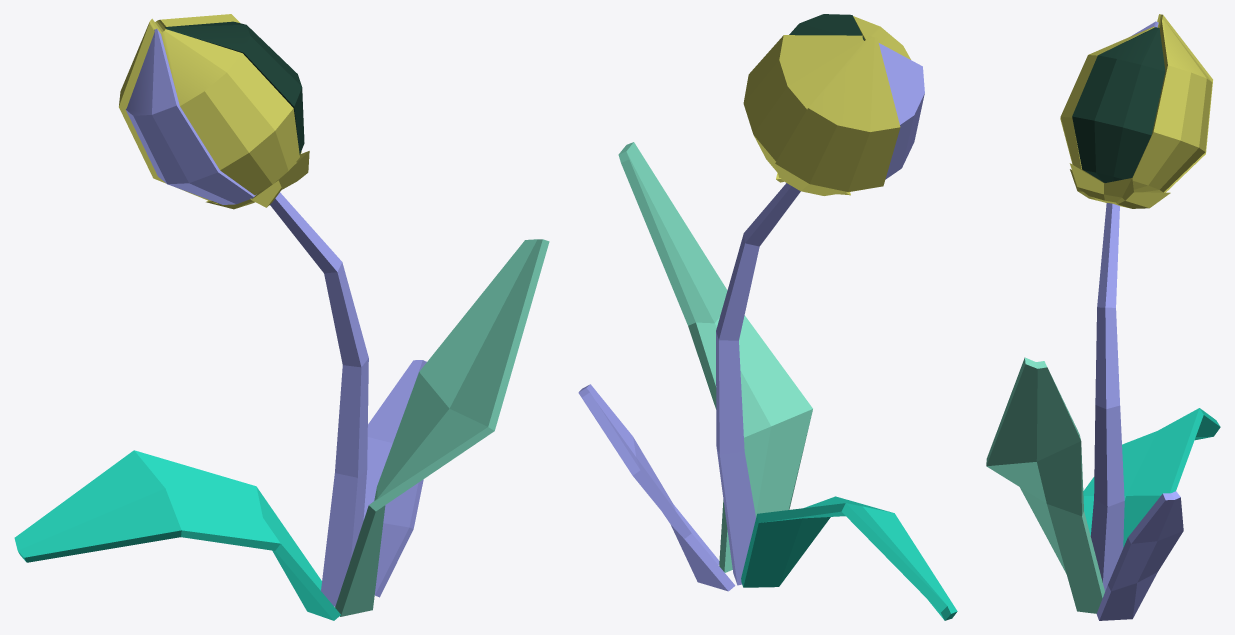
File: st1_flower7.fbx
3 renders of one model, left to right at view 1: azimuth 30°, elevation 25°; view 2: azimuth 150°, elevation 25°; view 3: azimuth 270°, elevation 25°, orthographic. The views are drawn at different scales.
Parts seen in each view (by area): view 1: Plane_003; view 2: Plane_003; view 3: Plane_003.
Part boxes in pixels (bbox=[...]): Plane_003: bbox=[14, 14, 549, 620]; Plane_003: bbox=[578, 14, 957, 620]; Plane_003: bbox=[986, 14, 1220, 620].
Size of the model in its own units: 156 by 209 by 84.51.
